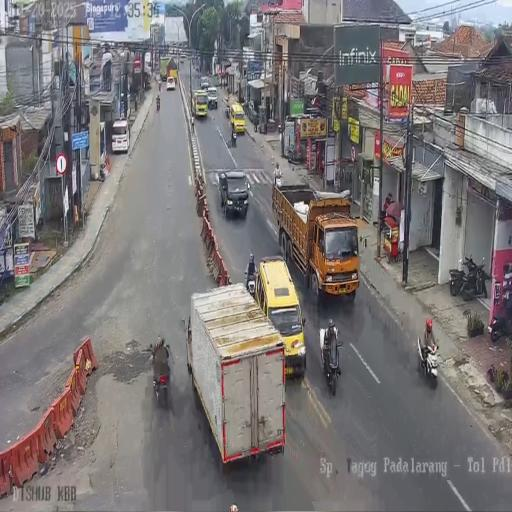3: (187, 282, 288, 466), (272, 178, 358, 302), (193, 89, 208, 118), (159, 56, 170, 82)
car: (218, 169, 250, 219), (111, 118, 130, 154), (229, 102, 246, 134), (246, 100, 260, 125), (206, 86, 218, 108), (200, 76, 209, 90), (166, 76, 175, 90)
truck: (320, 326, 343, 396), (449, 253, 476, 296), (490, 300, 512, 343), (286, 145, 302, 165), (231, 127, 237, 147), (277, 122, 282, 134), (156, 97, 160, 111)
